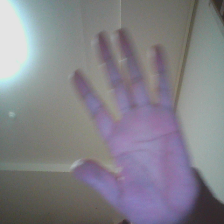hand: (72, 30, 201, 224)
